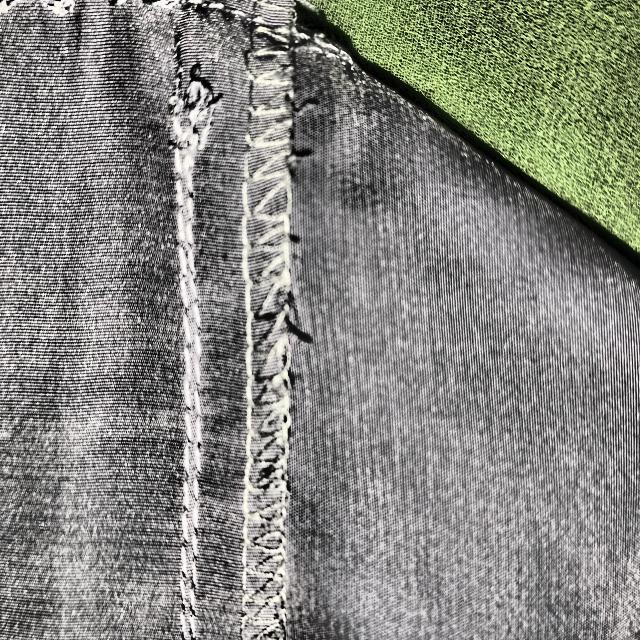gray stitch: (169, 0, 236, 176)
